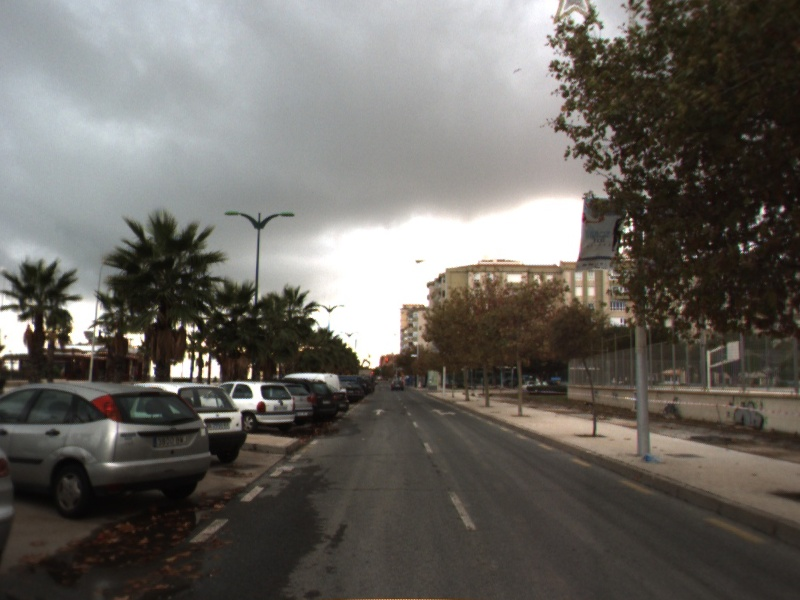STRAIGHT: (370, 408, 389, 418)
STRAIGHT_RIGHT: (429, 406, 458, 418)
